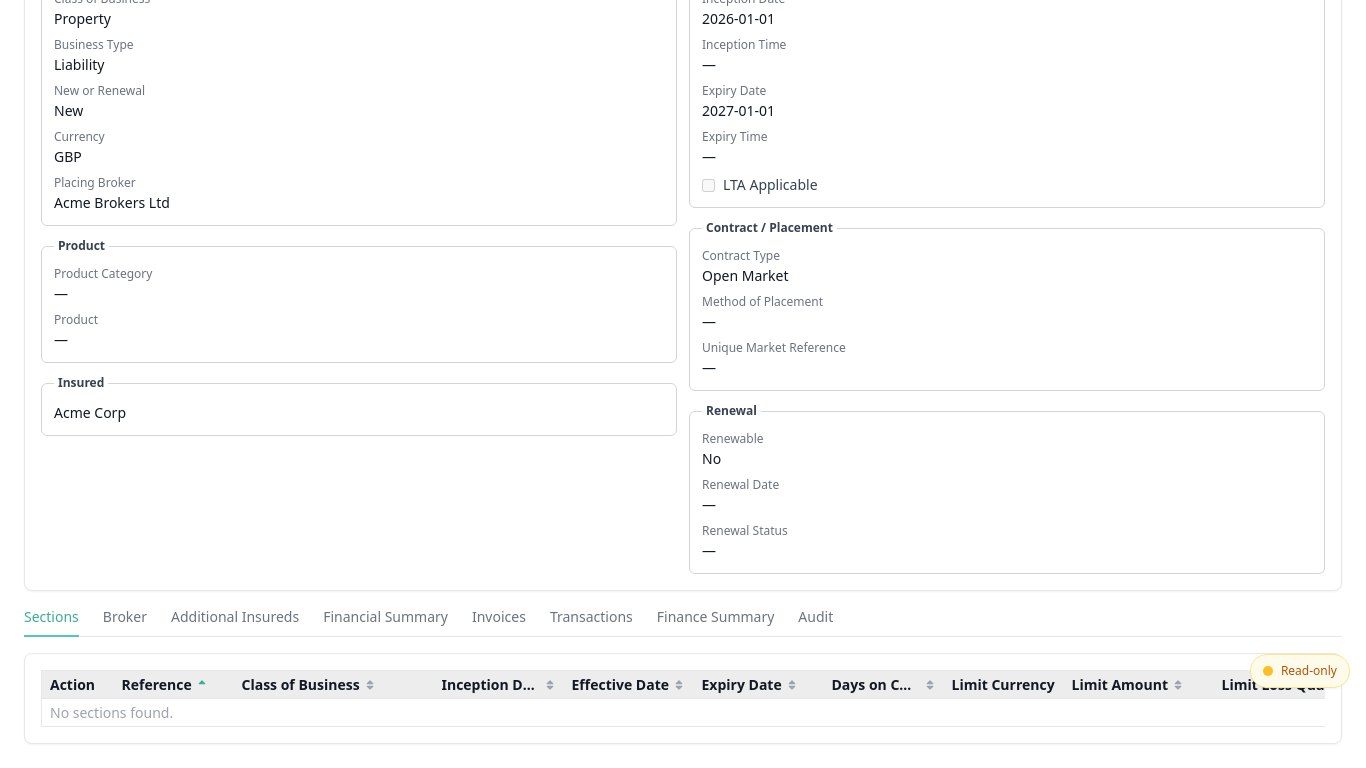
Test case: PolicyViewPage › T-POL-FE-F-R011 — Financial Summary tab shows Gross, Net, Commission as read-only
(page scrolled)
Click the button "Financial Summary" at point(386, 622), box x1=323 y1=607 x2=448 y2=637
(page scrolled)
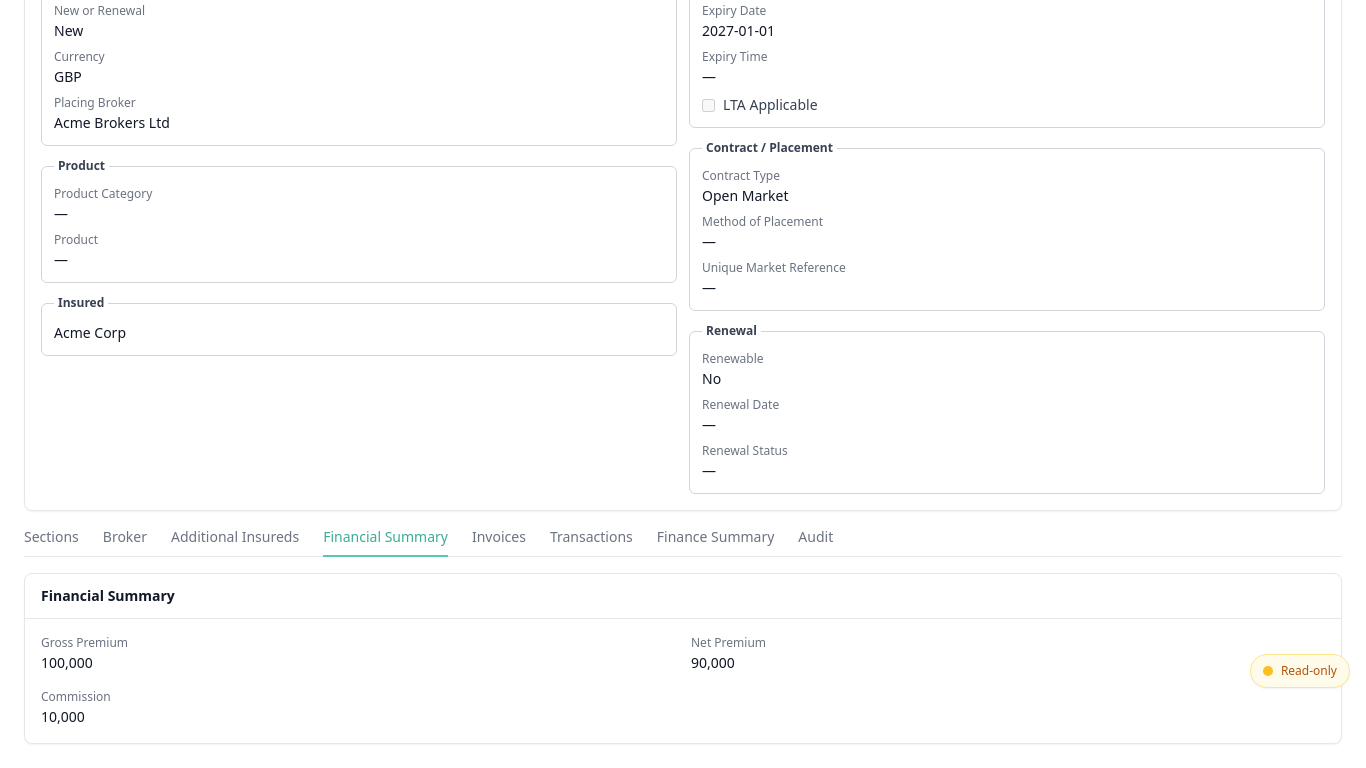
Check: the text "Gross Premium" is shown, box x1=41 y1=634 x2=128 y2=651
Check: the text "Net Premium" is shown, box x1=691 y1=634 x2=766 y2=651
Check: the text "Commission" is shown, box x1=41 y1=688 x2=111 y2=705
